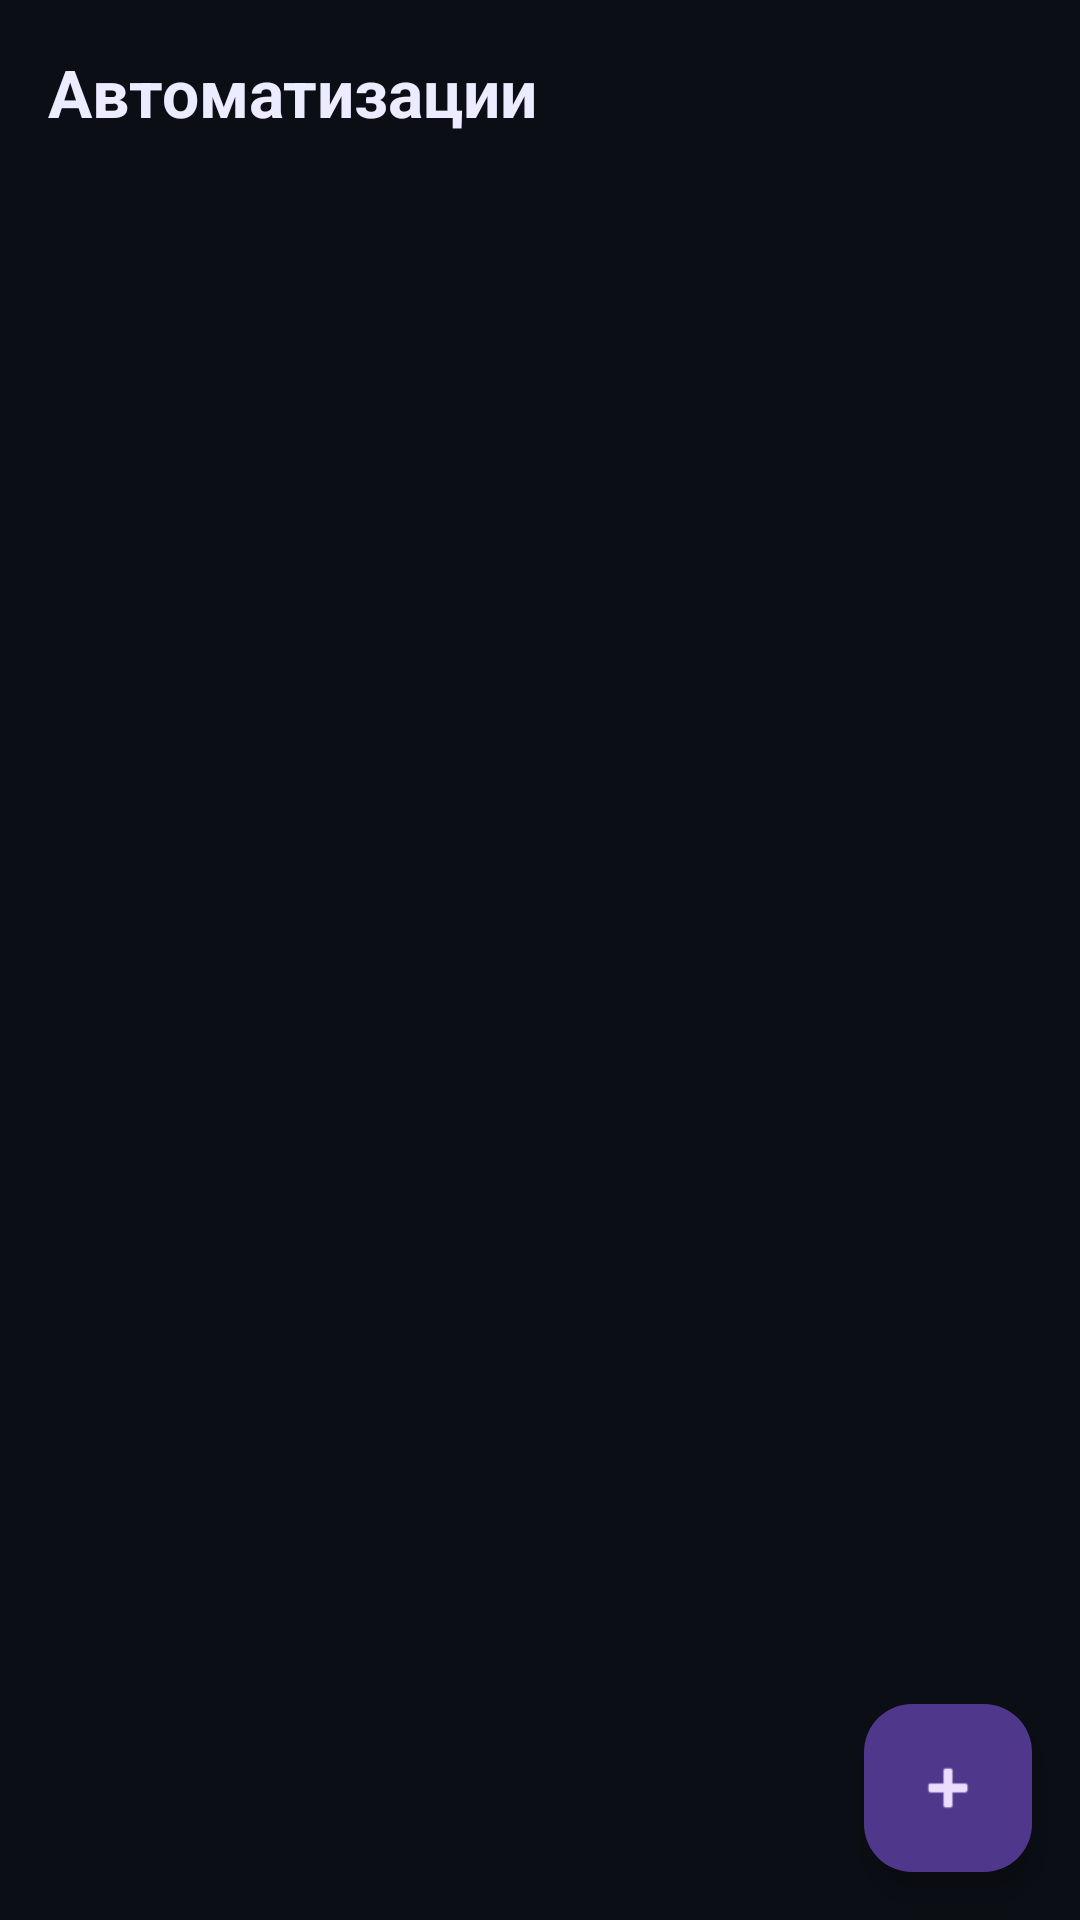

Where to tap for icons on this 1080px×1920px app screen, as (x,y):
Добавить автоматизацию: (948,1788)
